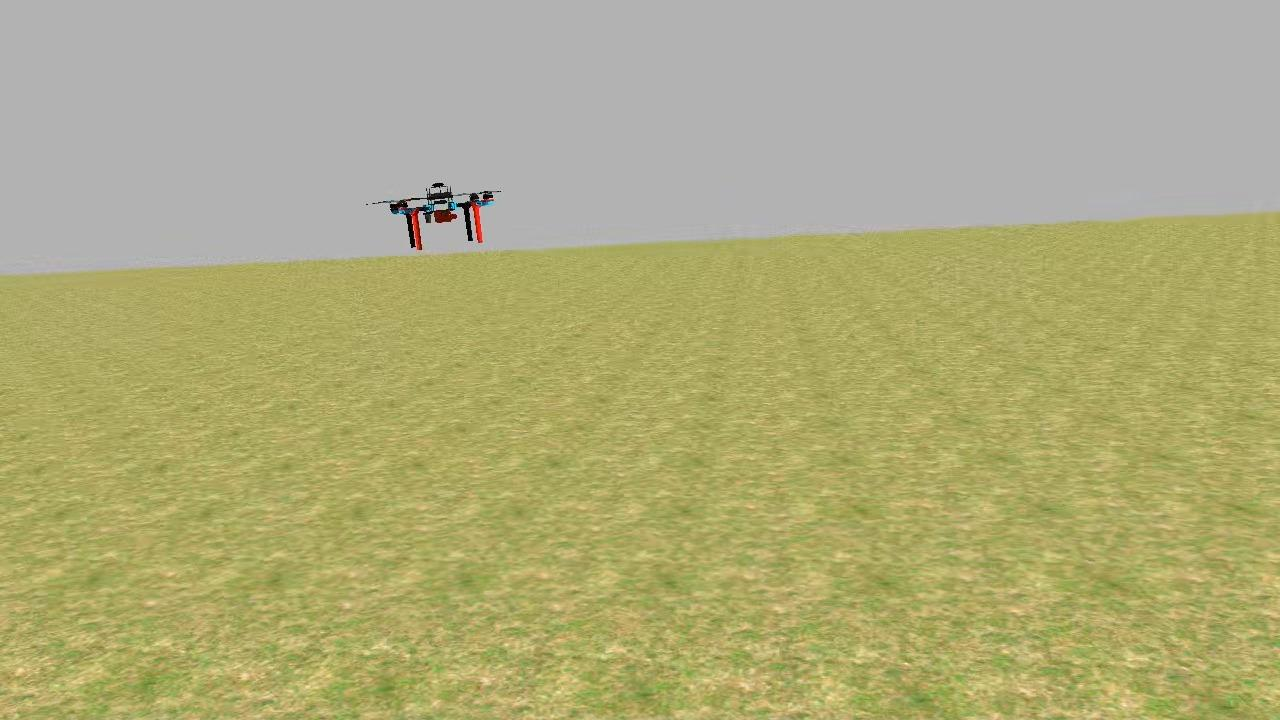UAV: (387, 173, 500, 260)
